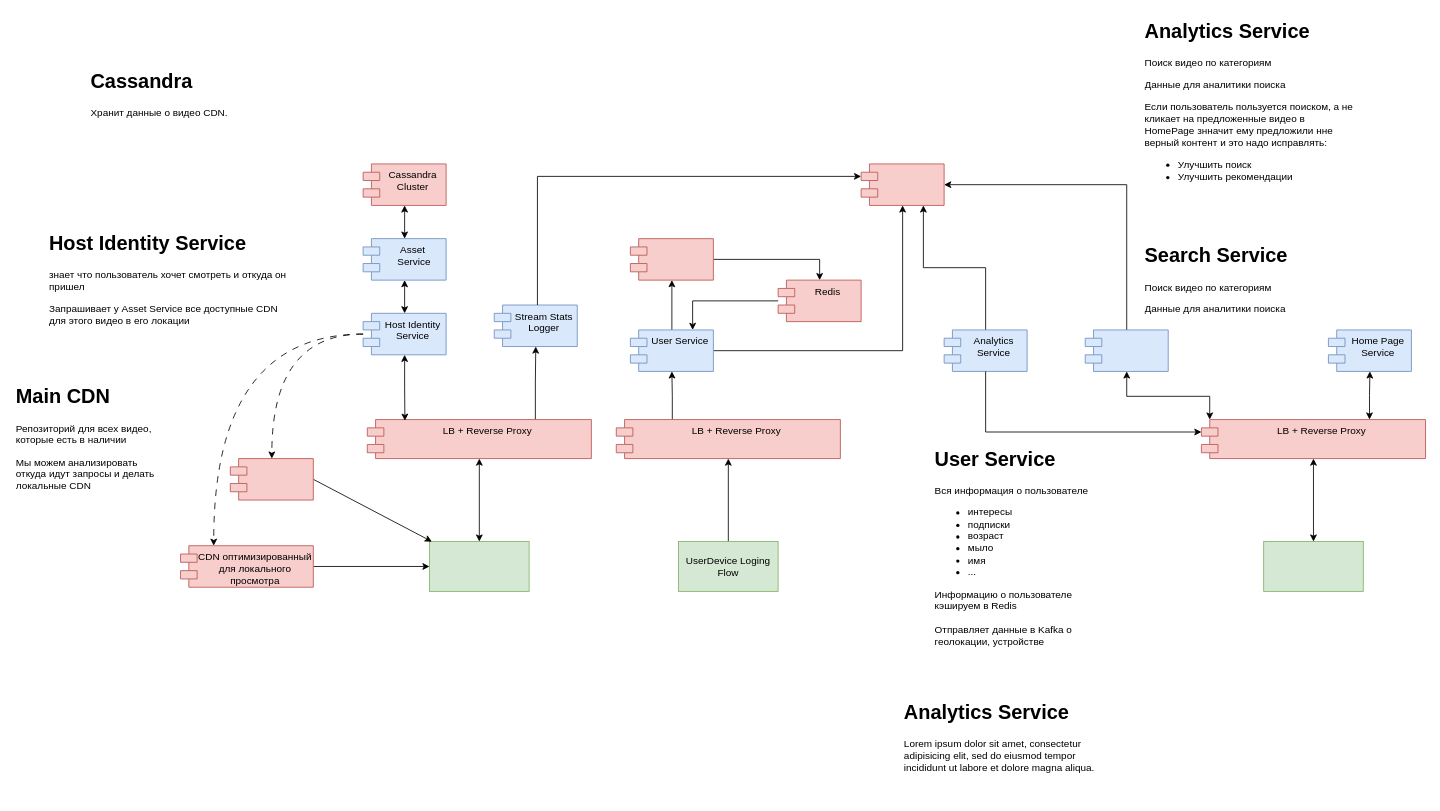
Image size: 1440x811. Some labels were removed from this diagram. Each missing label, with the box of its shape:
Kafka: (860, 163, 944, 205)
Main CDN: (229, 458, 313, 500)
MySQL cluster: (630, 238, 713, 280)
Search Service: (1084, 329, 1168, 371)
User home screen search screen: (1263, 541, 1363, 591)
UserDevice Playing video: (429, 541, 529, 591)
